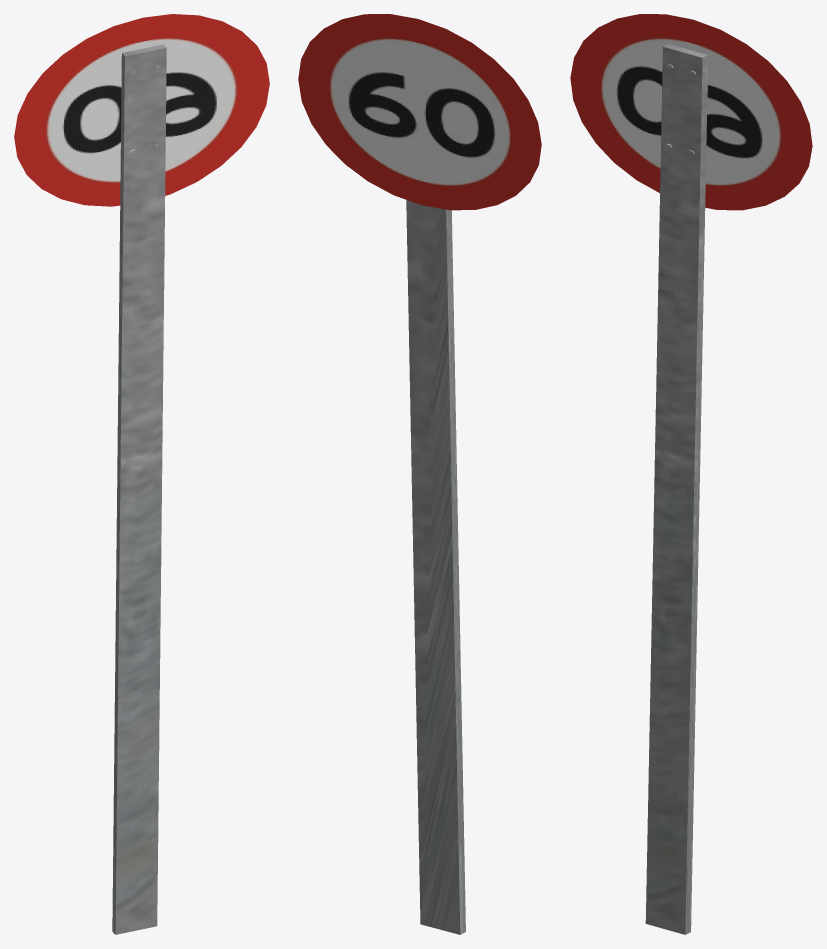
The model's file is 60_sign.obj.
3 renders of one model, left to right at view 1: azimuth 30°, elevation 25°; view 2: azimuth 150°, elevation 25°; view 3: azimuth 330°, elevation 25°, orthographic.
Parts seen in each view (by area): view 1: Front, stick; view 2: stick, Front; view 3: Front, stick.
Boxes of the visible parts, x1,y1,x2,y2 form: Front: (112,44,166,934); stick: (14,14,269,206); stick: (298,14,541,210); Front: (406,200,465,934); Front: (645,44,708,934); stick: (570,14,812,210).
Bounding box in the file's own units: 0.6223 × 2.16 × 0.0626.
2 materials, 2 textured.
